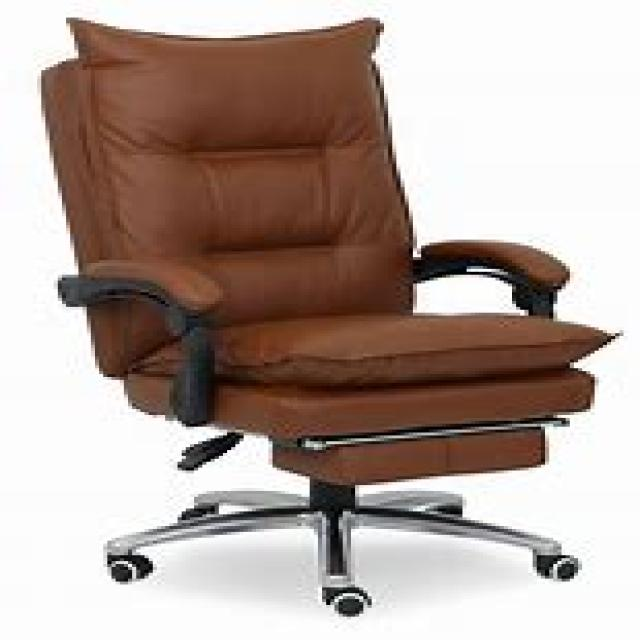chair: (38, 14, 620, 616)
